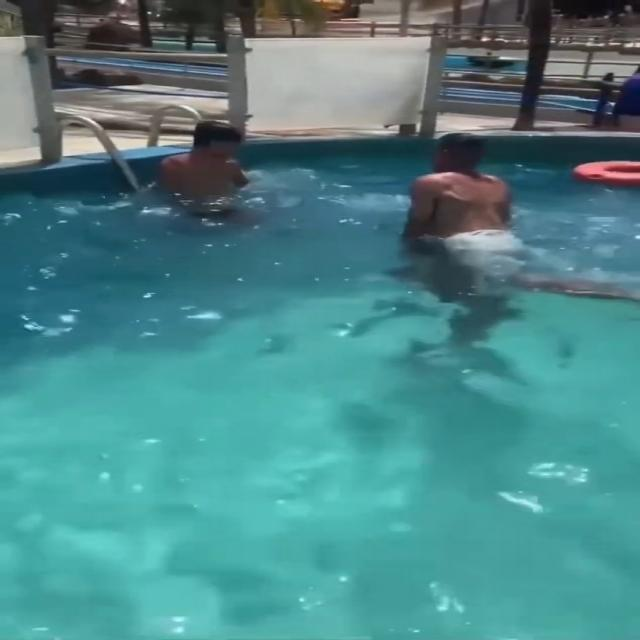swimming: (392, 123, 557, 297), (156, 119, 275, 216)
